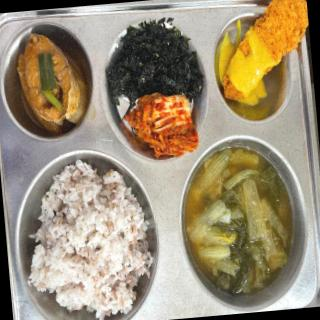Nasi: (21, 156, 160, 320)
